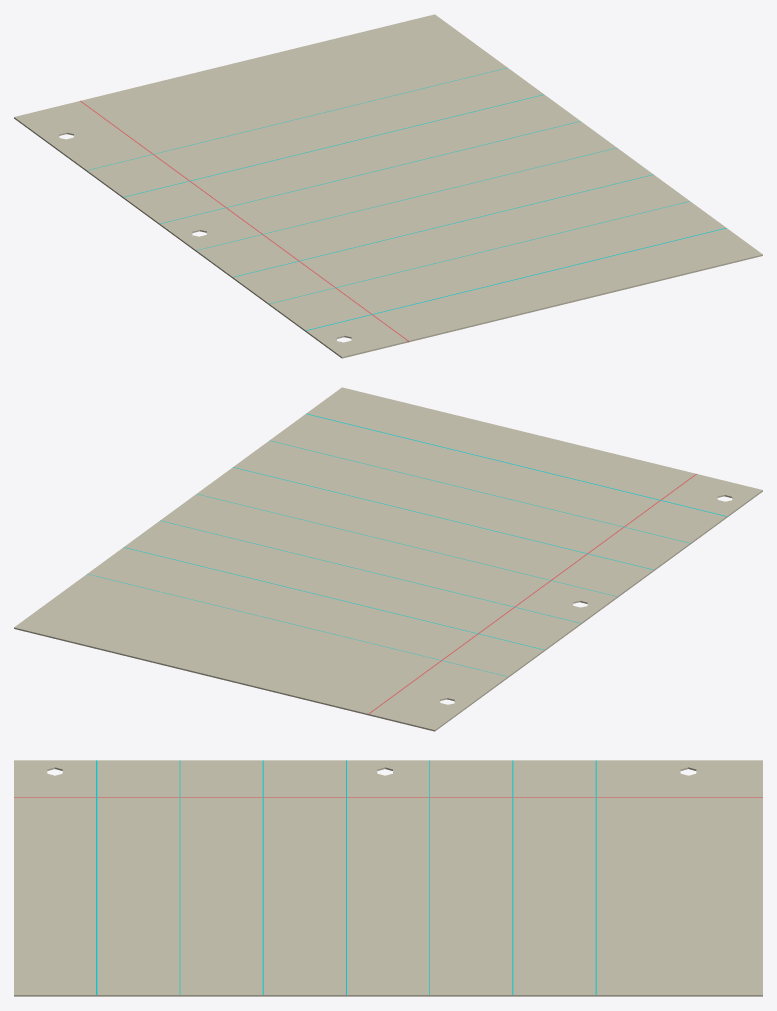
The model's file is Paper.fbx.
3 views of the same model, one above another, from view 1: azimuth 30°, elevation 25°; view 2: azimuth 150°, elevation 25°; view 3: azimuth 270°, elevation 25° (orthographic). The views are drawn at different scales.
Parts seen in each view (by area): view 1: Paprr; view 2: Paprr; view 3: Paprr.
Part boxes in pixels (x1,y1,x2,y2): Paprr: (14,14,762,358); Paprr: (14,387,762,731); Paprr: (14,760,762,996).
Size of the model in its own units: 20 by 0.0663 by 27.
